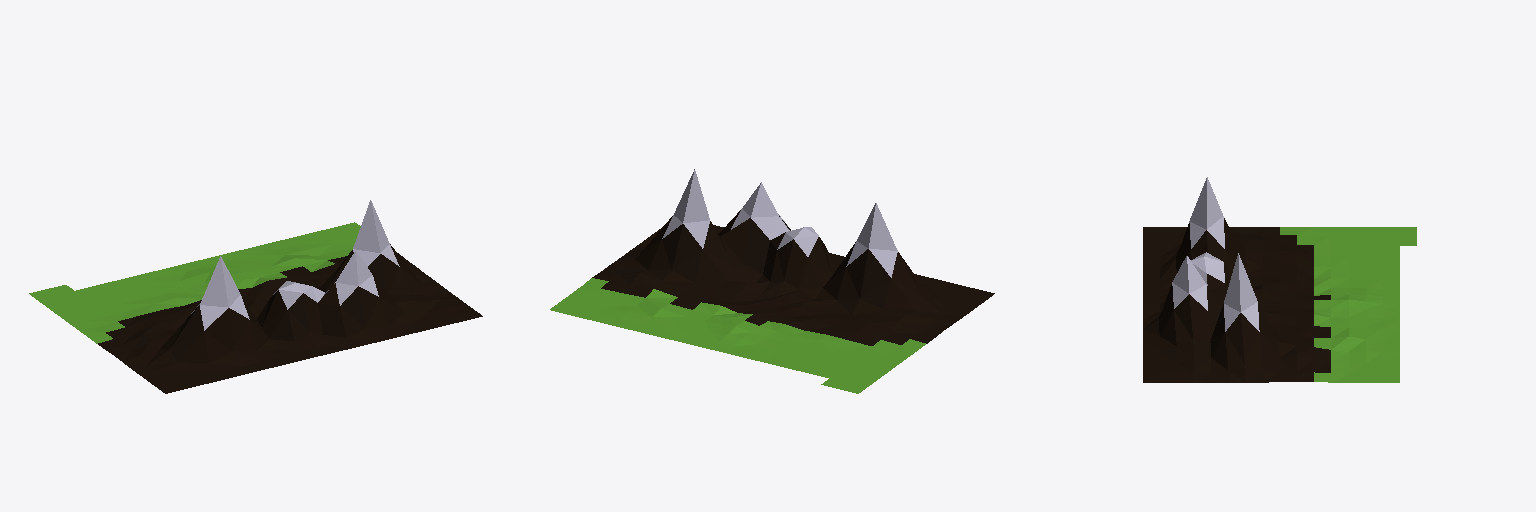
File: leftside.obj
The picture shows the model from 3 angles: view 1: azimuth 30°, elevation 25°; view 2: azimuth 150°, elevation 25°; view 3: azimuth 270°, elevation 25°; orthographic projection.
Visible parts, largest first — view 1: pasted__polySurface1 pasted__Mesh group1; view 2: pasted__polySurface1 pasted__Mesh group1; view 3: pasted__polySurface1 pasted__Mesh group1.
Boxes of the visible parts, <box> form: pasted__polySurface1 pasted__Mesh group1: <box>29,200,482,393</box>; pasted__polySurface1 pasted__Mesh group1: <box>550,169,994,393</box>; pasted__polySurface1 pasted__Mesh group1: <box>1143,177,1416,382</box>.
Bounding box in the file's own units: 21.26 × 6.3 × 15.86.